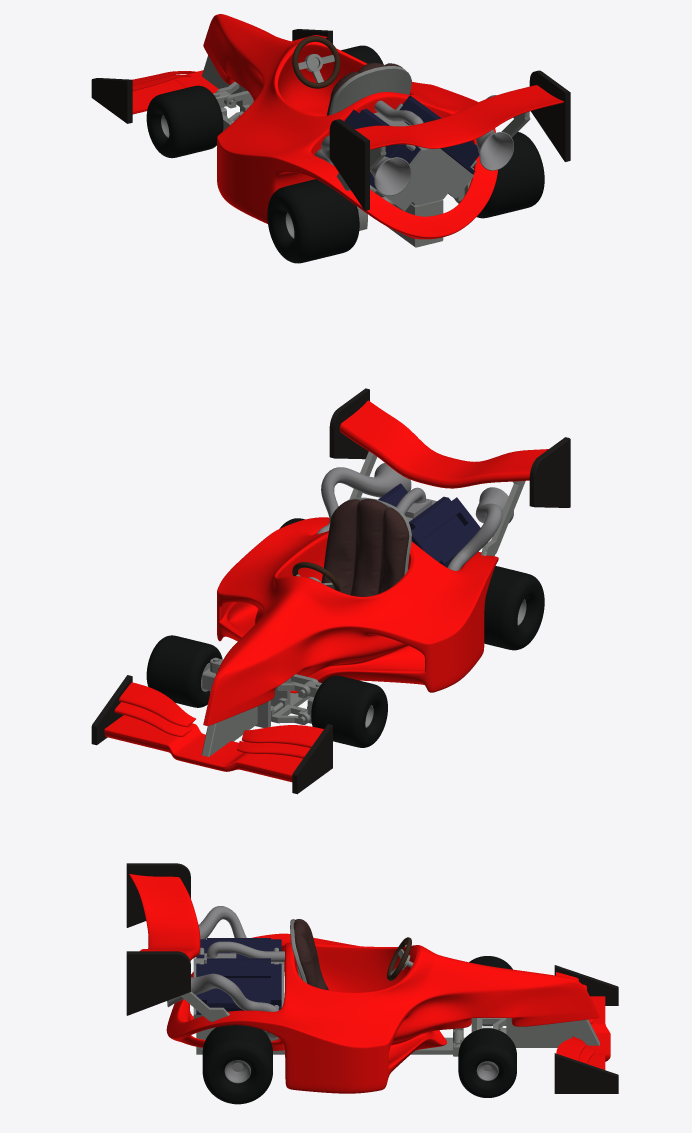
The model's file is racing_kart_concept-transformed.glb.
The picture shows the model from 3 angles, top to bottom: view 1: azimuth 30°, elevation 25°; view 2: azimuth 150°, elevation 25°; view 3: azimuth 270°, elevation 25°; orthographic projection. The views are drawn at different scales.
Parts seen in each view (by area): view 1: chair_Rubber-2_0, body-concept-1_Paint-Red_0, steering-wheel-torus_Material-1_0; view 2: body-concept-1_Paint-Red_0, chair_Rubber-2_0; view 3: body-concept-1_Paint-Red_0, chair_Rubber-2_0, steering-wheel-torus_Material-1_0.
Part boxes in pixels (bbox=[...]): chair_Rubber-2_0: bbox=[91, 29, 570, 263]; body-concept-1_Paint-Red_0: bbox=[132, 14, 563, 239]; steering-wheel-torus_Material-1_0: bbox=[292, 36, 340, 88]; body-concept-1_Paint-Red_0: bbox=[104, 400, 548, 782]; chair_Rubber-2_0: bbox=[91, 388, 570, 794]; body-concept-1_Paint-Red_0: bbox=[129, 874, 610, 1093]; chair_Rubber-2_0: bbox=[126, 863, 618, 1104]; steering-wheel-torus_Material-1_0: bbox=[387, 937, 411, 980].
Size of the model in its own units: 1.76 by 0.918 by 3.8.
Materials: 4 (4 with a texture image).
